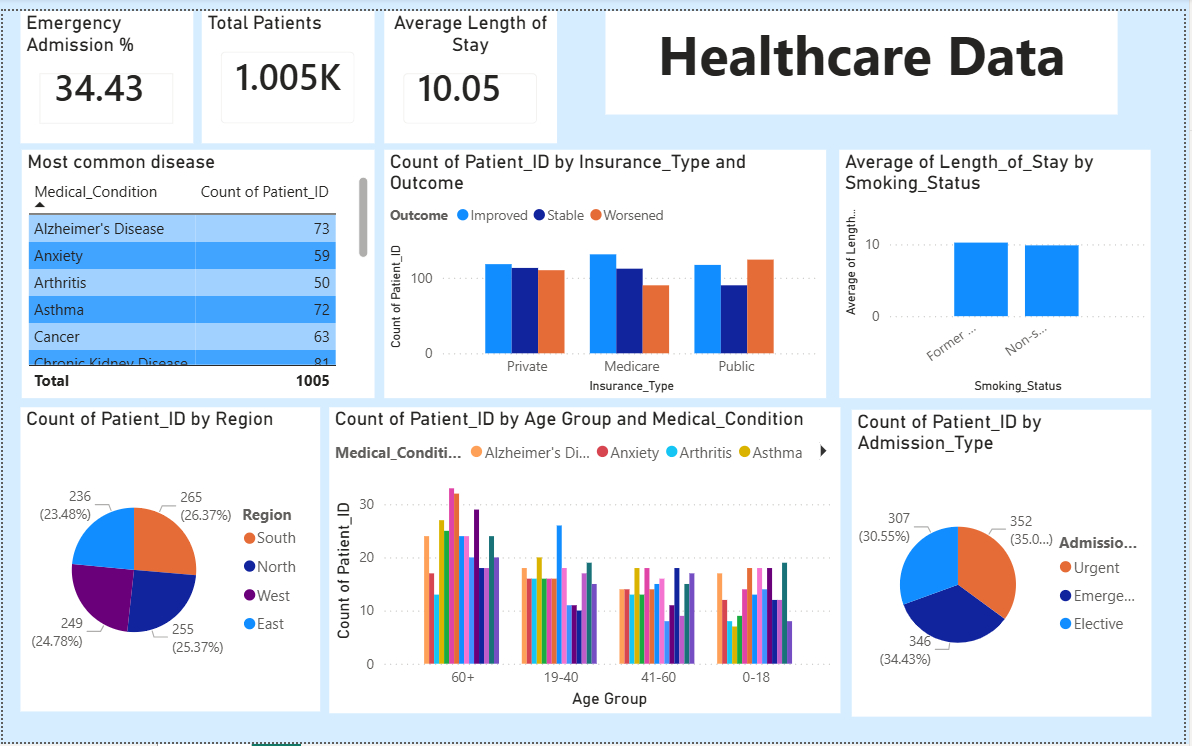

What the dashboard file says about the page in this screenshot:
{"tool":"powerbi","page":{"name":"Page 1","canvas":[1050,650],"ordinal":0},"visuals":[{"type":"cardVisual","title":"Total Patients ","fields":{"Data":["CountNonNull(raw.Patient_ID)"]},"box":[176.7,0,153.3,117.8],"z":0},{"type":"tableEx","title":"Most common disease","fields":{"Values":["raw.Medical_Condition","CountNonNull(raw.Patient_ID)"]},"box":[16.7,123.3,313.3,221.1],"z":1000},{"type":"cardVisual","title":"Average Length of Stay ","fields":{"Data":["Avg(raw.Length_of_Stay)"]},"box":[338.9,0,153.3,117.8],"z":2000},{"type":"cardVisual","title":"Emergency Admission % ","fields":{"Data":["raw.Emergency %"]},"box":[15.6,0,153.3,117.8],"z":3000},{"type":"pieChart","fields":{"Category":["raw.Admission_Type"],"Y":["CountNonNull(raw.Patient_ID)"]},"box":[754.7,354,266.2,273.1],"z":4000},{"type":"clusteredColumnChart","fields":{"Category":["raw.Insurance_Type"],"Series":["raw.Outcome"],"Y":["CountNonNull(raw.Patient_ID)"]},"box":[338.9,123.5,392.5,220.9],"z":5000},{"type":"pieChart","fields":{"Category":["raw.Region"],"Y":["CountNonNull(raw.Patient_ID)"]},"box":[15.1,352.7,266.2,270.3],"z":6000},{"type":"clusteredColumnChart","fields":{"Category":["raw.Smoking_Status"],"Y":["Avg(raw.Length_of_Stay)"]},"box":[743.7,123.5,277.2,220.9],"z":7000},{"type":"clusteredColumnChart","fields":{"Y":["CountNonNull(raw.Patient_ID)"],"Category":["raw.Age Group"],"Series":["raw.Medical_Condition"]},"box":[289.5,352.7,454.2,271.7],"z":8000},{"type":"textbox","box":[535.6,0,455.6,92.2],"z":9000}]}

Visuals, with their boxes in screenshot pixels (x1, y1, x2, y2), scaled from the page's 1050x650 canvas onto the 1192x746 screenshot:
"Total Patients " cardVisual: box(201, 0, 375, 135)
"Most common disease" tableEx: box(19, 142, 375, 395)
"Average Length of Stay " cardVisual: box(385, 0, 559, 135)
"Emergency Admission % " cardVisual: box(18, 0, 192, 135)
pieChart - raw.Admission_Type x CountNonNull(raw.Patient_ID): box(857, 406, 1159, 720)
clusteredColumnChart - raw.Insurance_Type x raw.Outcome: box(385, 142, 830, 395)
pieChart - raw.Region x CountNonNull(raw.Patient_ID): box(17, 405, 319, 715)
clusteredColumnChart - raw.Smoking_Status x Avg(raw.Length_of_Stay): box(844, 142, 1159, 395)
clusteredColumnChart - CountNonNull(raw.Patient_ID) x raw.Age Group: box(329, 405, 844, 717)
textbox: box(608, 0, 1125, 106)
